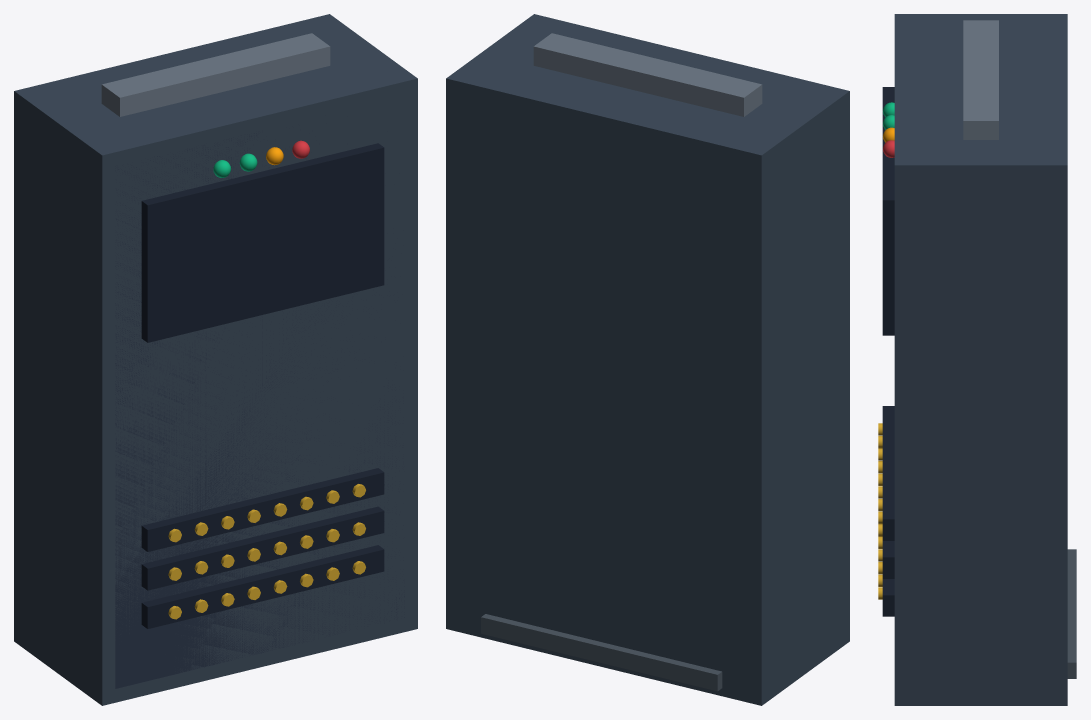
Rendered from plc-module.glb.
3 renders of one model, left to right at view 1: azimuth 30°, elevation 25°; view 2: azimuth 150°, elevation 25°; view 3: azimuth 270°, elevation 25°, orthographic.
Size of the model in its own units: 1.2 by 2.07 by 0.665.
